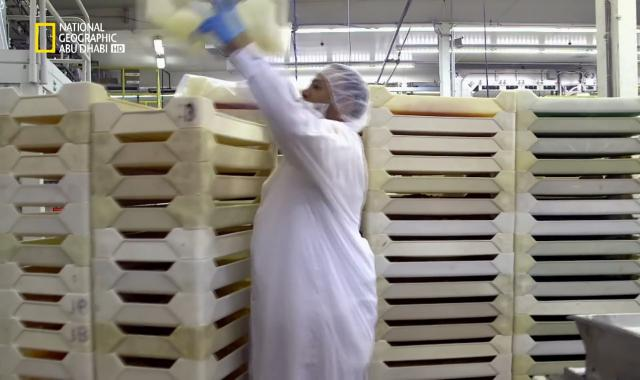hairnet: (313, 60, 369, 122)
